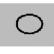no answer: (13, 12, 48, 37)
